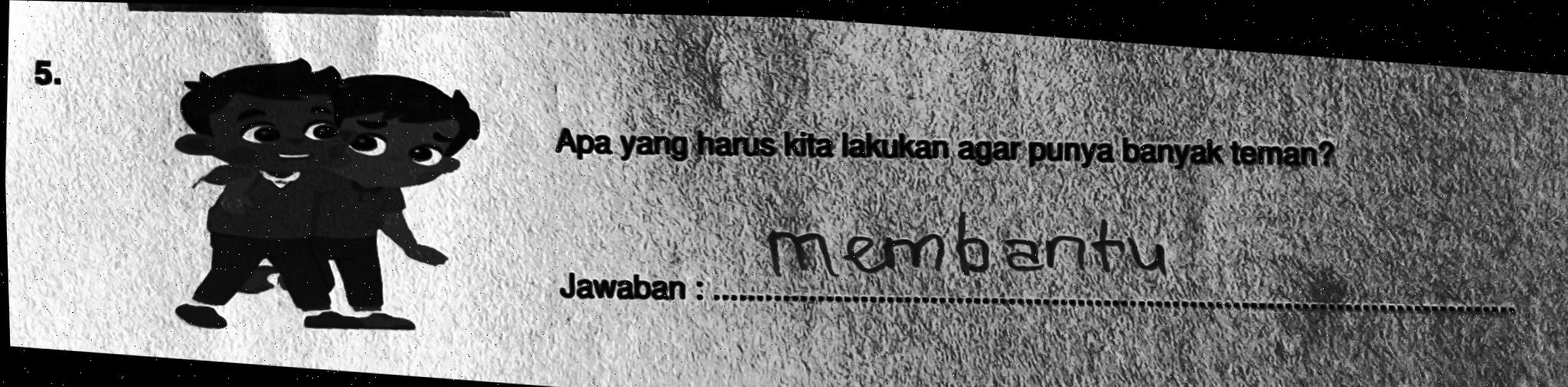jawaban: (758, 211, 1172, 286)
